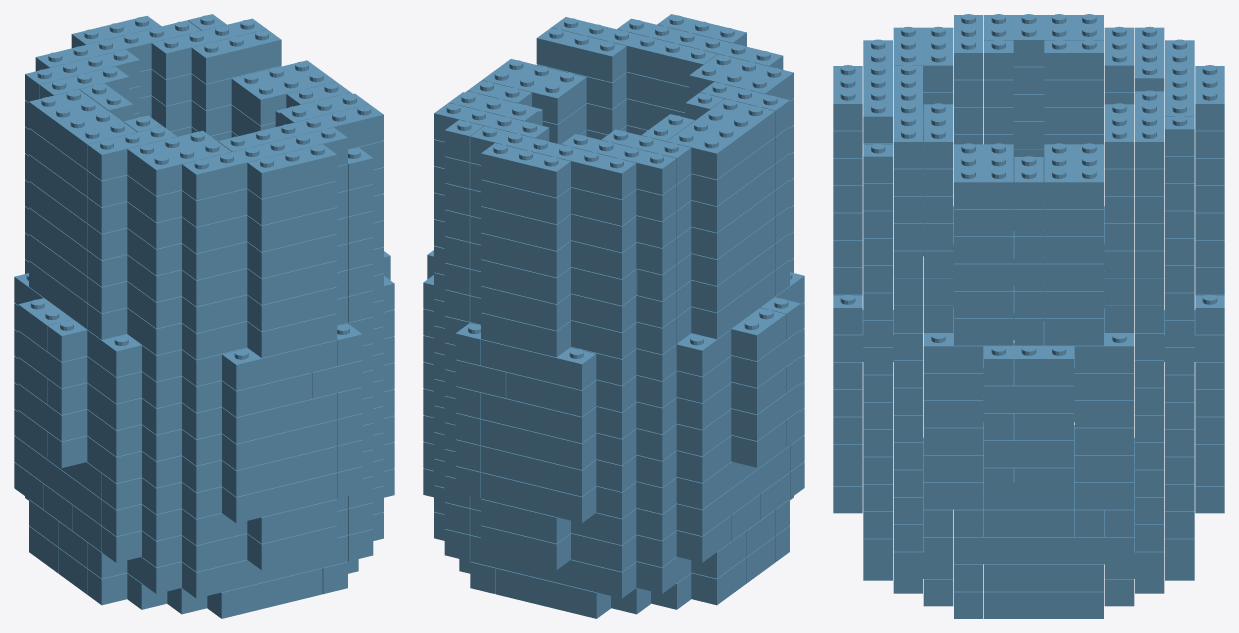
The model's file is brickmore__bowl-L2-C1__raw.glb.
The picture shows the model from 3 angles, left to right: view 1: azimuth 30°, elevation 25°; view 2: azimuth 150°, elevation 25°; view 3: azimuth 270°, elevation 25°; orthographic projection. The views are drawn at different scales.
Bounding box in the file's own units: 12.98 × 17.13 × 12.98.
